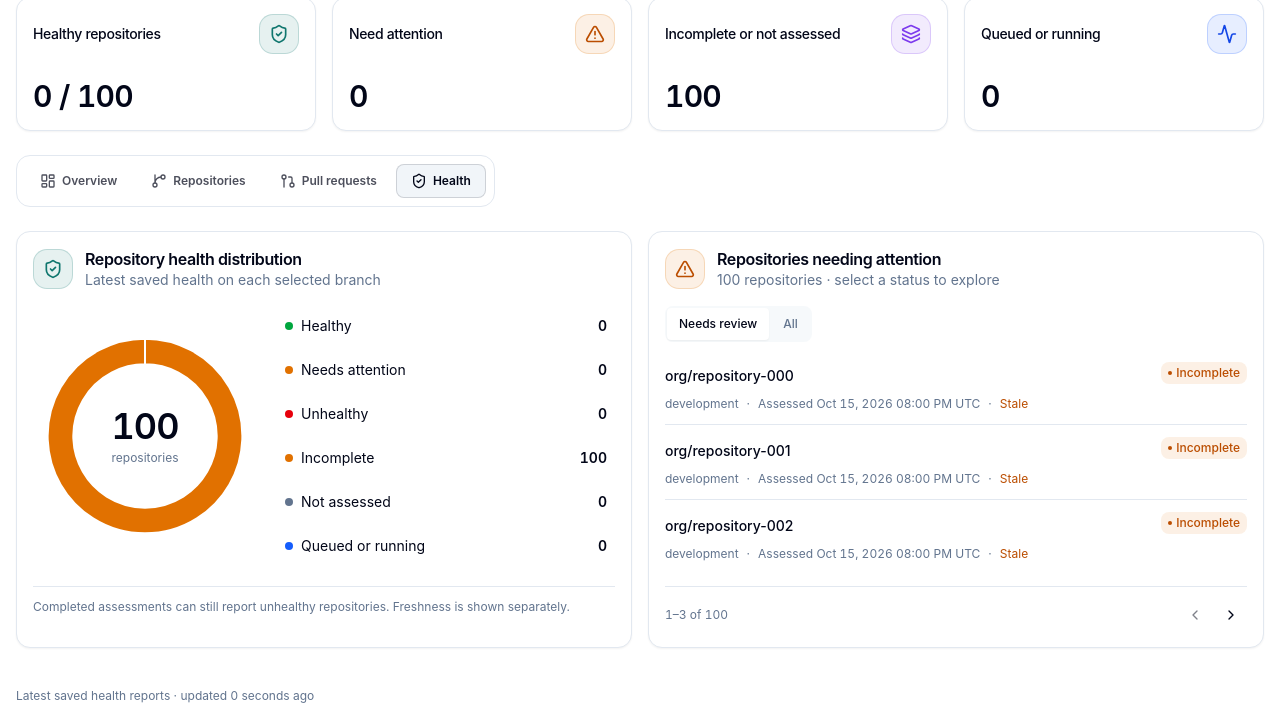
Test: keeps a hundred repositories to three compact rows per page
This screenshot has width=1280, height=720.
(page scrolled)
Expected: the text "1–3 of 100" is shown, [665,607,728,623]
Expected: the number of links is 3, [665,362,814,390]; [665,437,811,465]; [665,512,813,540]
Step 1. Click the button named "Next health repositories" → (1231, 615), box [1215,599,1247,631]
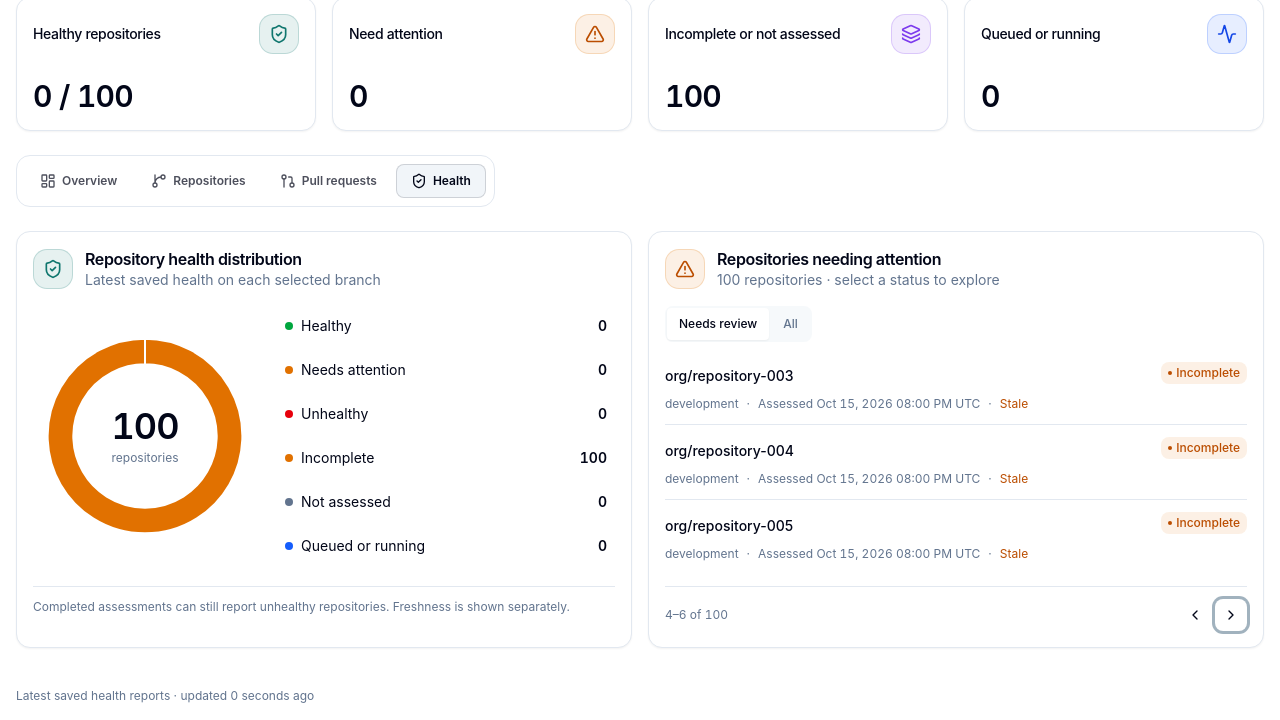
Expected: the number of links is 3, [665,362,814,390]; [665,437,814,465]; [665,512,813,540]
Now the text "4–6 of 100" is shown, box [665,607,728,623]
